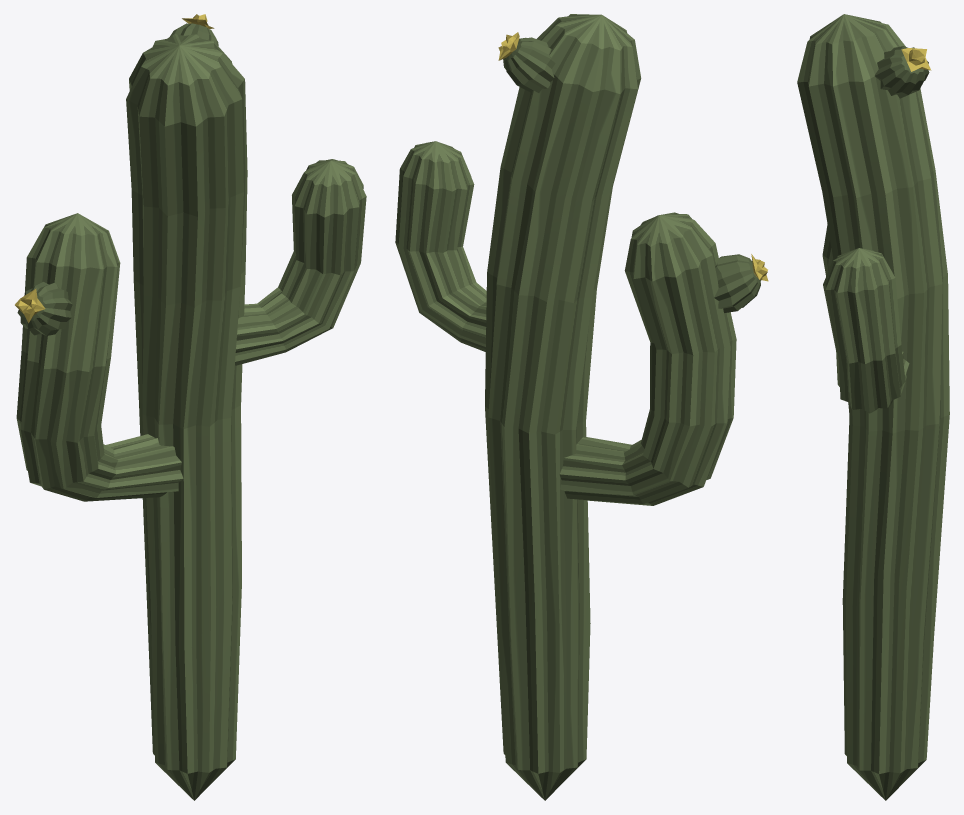
Rendered from SM_Env_Cactus_04.obj.
3 views of the same model, side by side, from view 1: azimuth 30°, elevation 25°; view 2: azimuth 150°, elevation 25°; view 3: azimuth 270°, elevation 25° (orthographic).
Parts seen in each view (by area): view 1: SM_Env_Cactus_04_0; view 2: SM_Env_Cactus_04_0; view 3: SM_Env_Cactus_04_0.
Part boxes in pixels (left/top/right/bottom): SM_Env_Cactus_04_0: left=15, top=14, right=366, bottom=800; SM_Env_Cactus_04_0: left=395, top=14, right=768, bottom=800; SM_Env_Cactus_04_0: left=797, top=14, right=949, bottom=800.
Size of the model in its own units: 1.3 by 2.75 by 0.494.
1 material, 1 textured.
